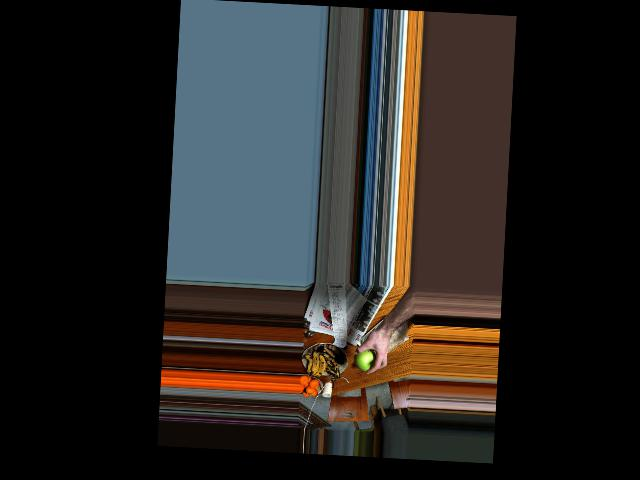apple: (354, 343, 379, 372)
